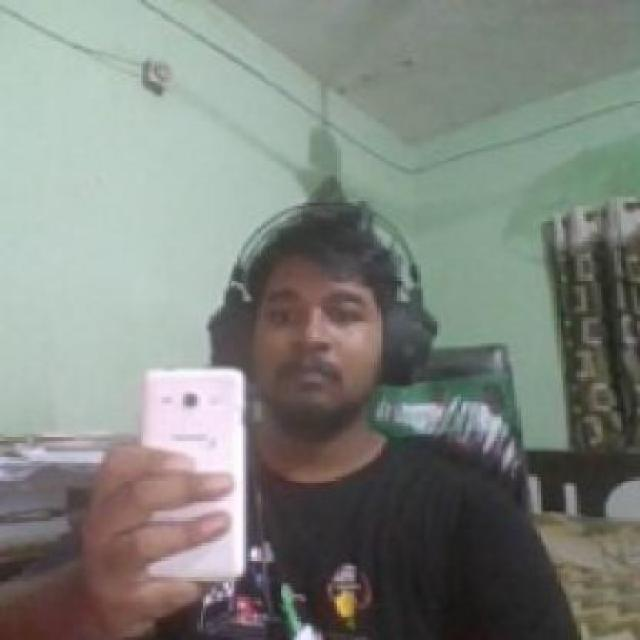Phone: (143, 366, 249, 583)
